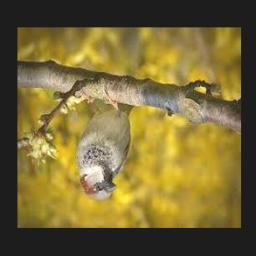Sparrow: (77, 97, 135, 200)
